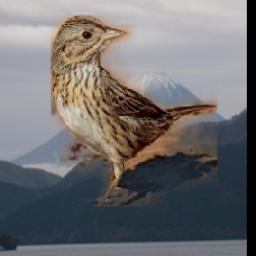Sparrow: (51, 15, 217, 207)
